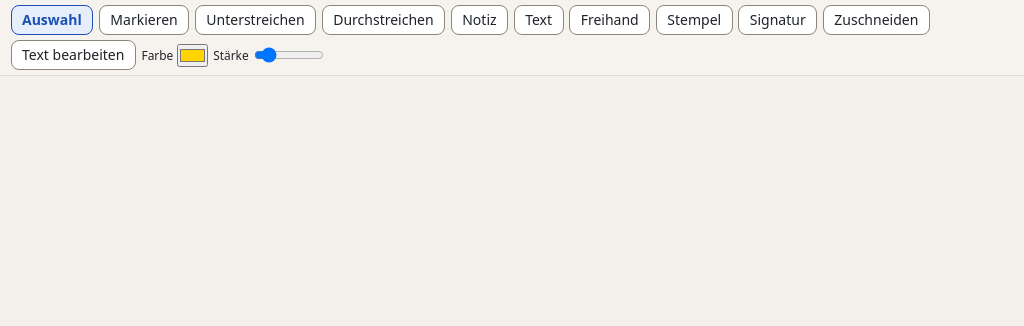
it: Werkzeugleiste › zeigt mit Bild die Vorschau und laesst es aendern
The image size is (1024, 326).
Step 1. Click the button with test id "werkzeug-signatur" → click(778, 20), box [738,5,817,35]
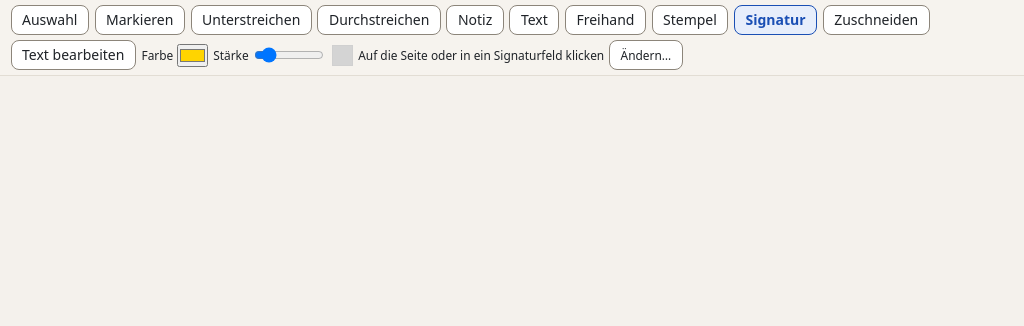
Step 2. Click the button with test id "werkzeug-signatur-aendern" → click(646, 56), box [609,40,683,70]
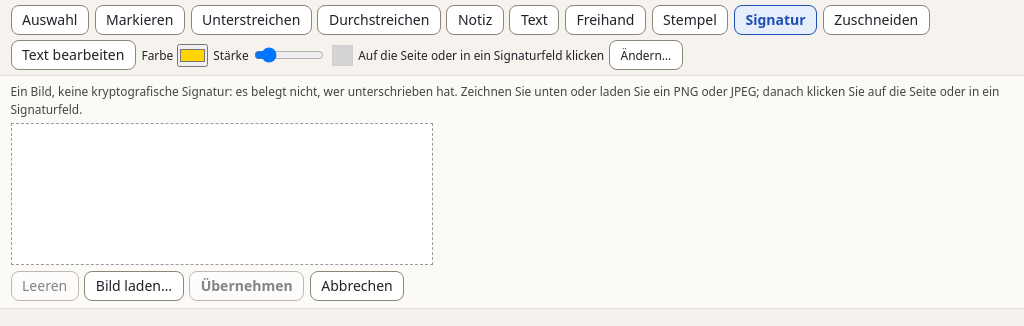
Now the element with test id "signaturfeld" is shown
Note: Ein anderes Werkzeug schliesst das Feld.
Step 3. Click the button with test id "werkzeug-auswahl" → click(50, 20), box [10,5,89,35]
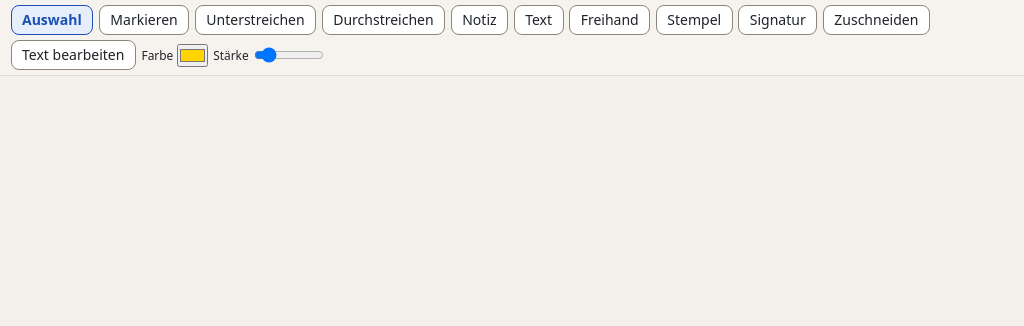
Now the element with test id "signaturfeld" is gone
